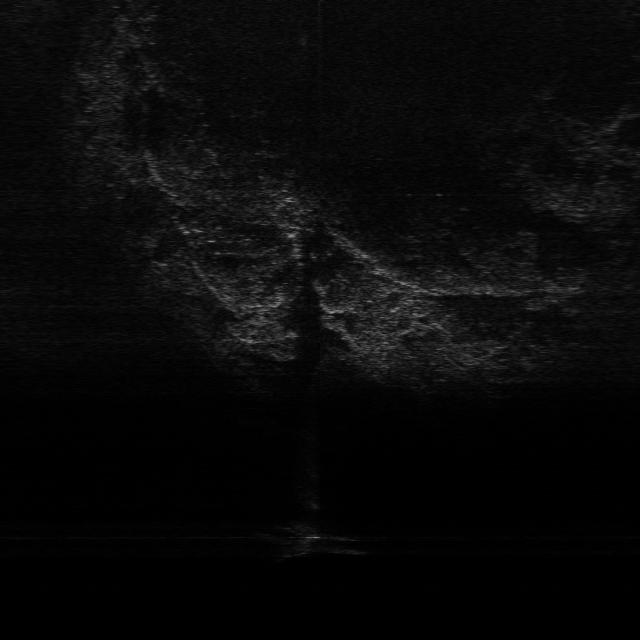plane: (253, 518, 371, 563)
